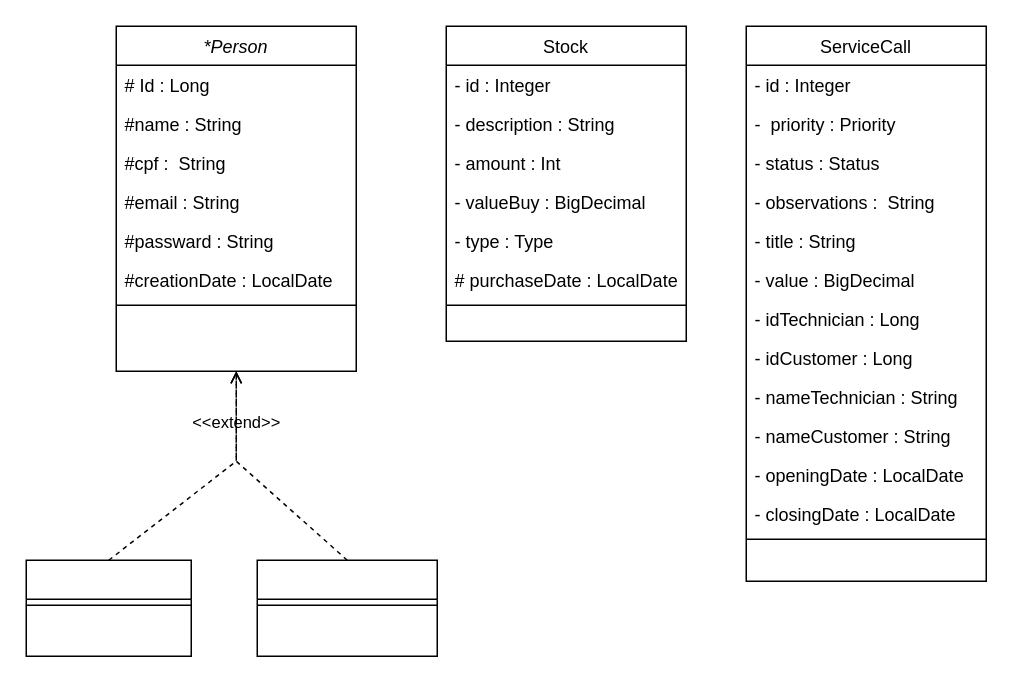
Image size: 1013x683. Some labels were removed from this diagram. Here are the shapes that lost their labels. From the top down, the centre of each, then its label:
the point at 108,607: Technician
the point at 346,607: Customer
